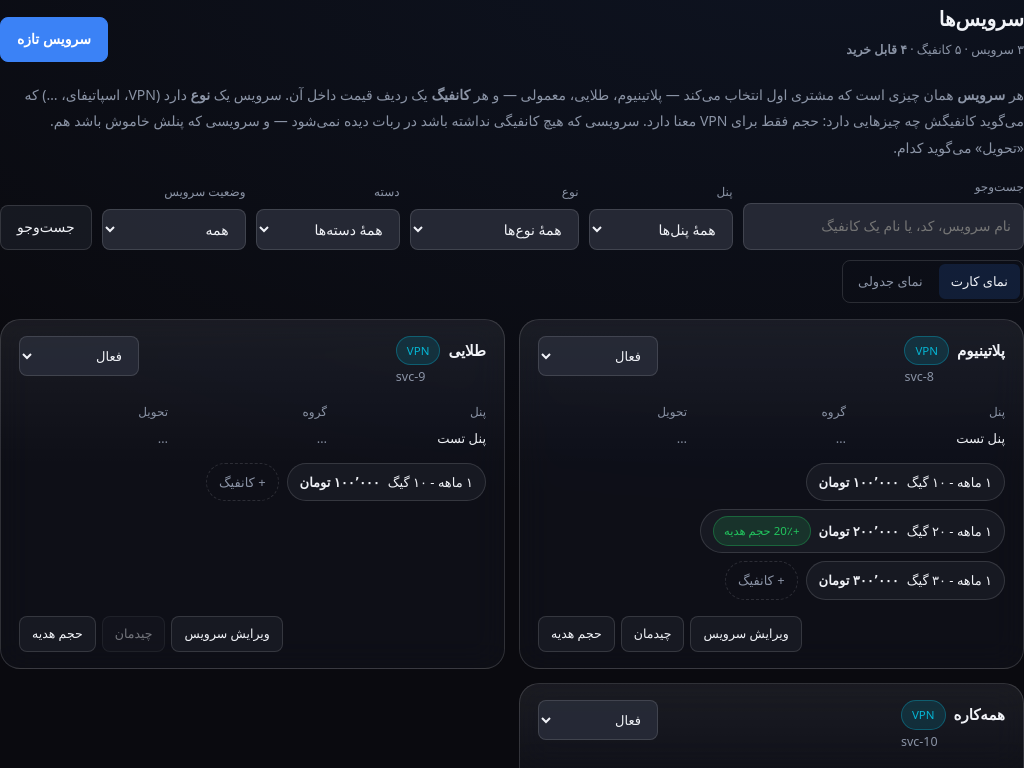
the catalogue screen › opens a config editor from its chip, under its own card
Click the button "۱ ماهه - ۲۰ گیگ ۲۰۰٬۰۰۰ تومان +20٪ حجم هدیه": click(852, 531) [700,509,1005,553]
(page scrolled)
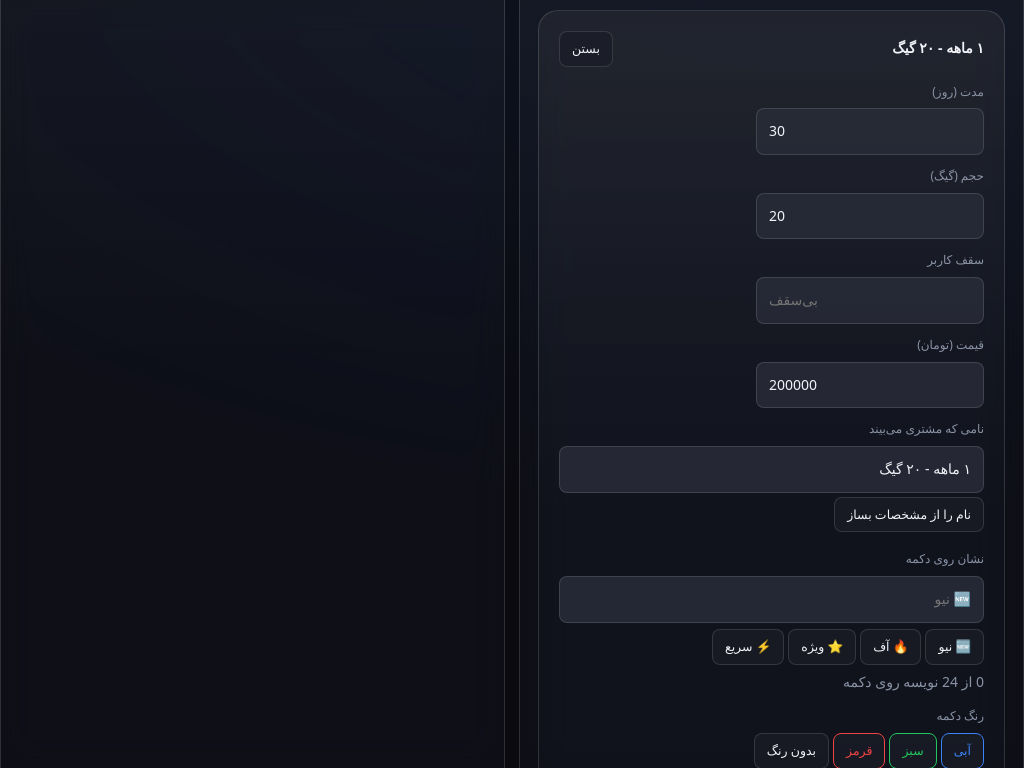
Expected: the number field labelled "قیمت (تومان)" holds "200000", [756,362,984,408]
